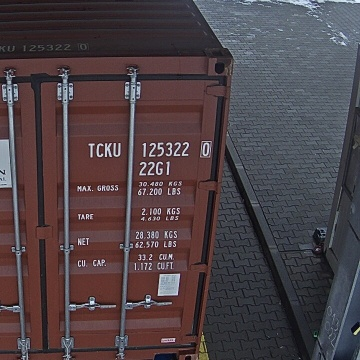serial_id: (88, 142, 209, 157)
